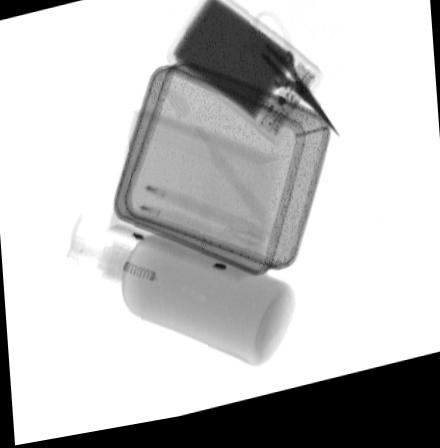Powerbank: (162, 0, 326, 163)
Scissors: (239, 19, 344, 157)
